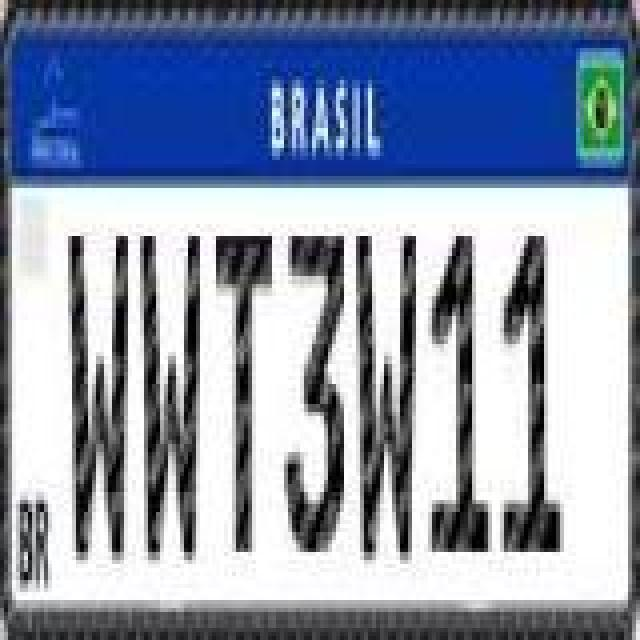1: (426, 224, 494, 560), (500, 224, 564, 560)
3: (278, 230, 346, 554)
T: (212, 224, 276, 560)
W: (134, 232, 202, 568), (352, 228, 416, 572), (64, 236, 128, 572)
